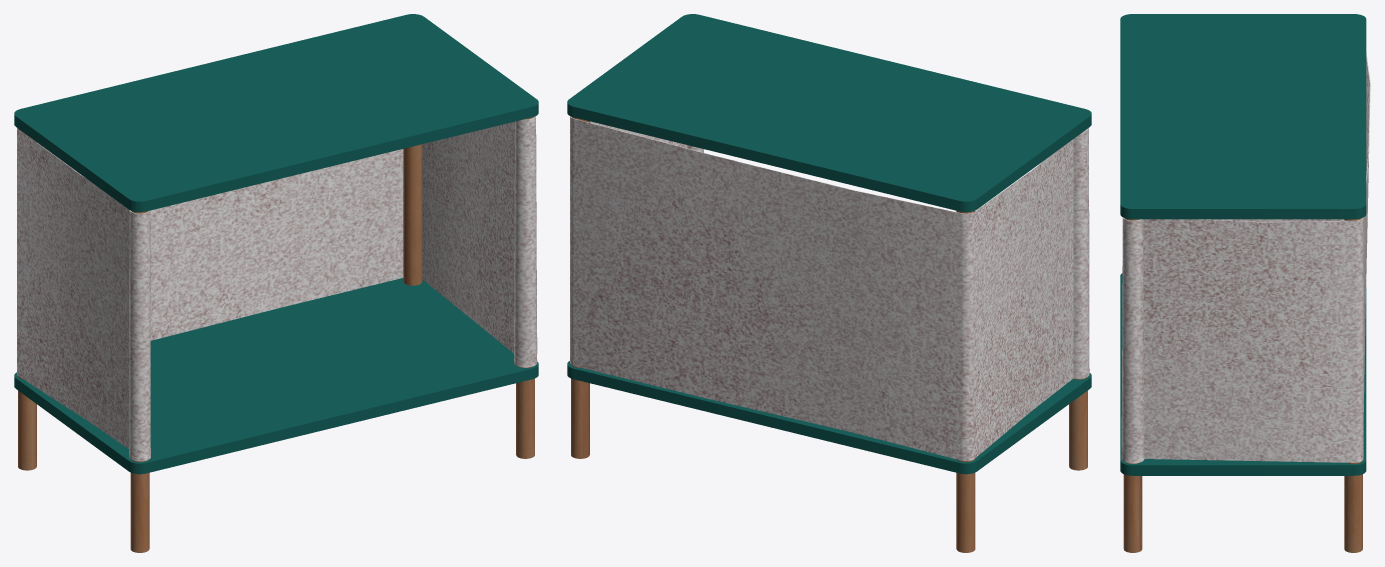
The model's file is c_feltshelf.gltf.
The picture shows the model from 3 angles, left to right: view 1: azimuth 30°, elevation 25°; view 2: azimuth 150°, elevation 25°; view 3: azimuth 270°, elevation 25°; orthographic projection. The views are drawn at different scales.
Parts seen in each view (by area): view 1: c_feltshelf; view 2: c_feltshelf; view 3: c_feltshelf.
Part boxes in pixels (x1,y1,x2,y2): c_feltshelf: (14,14,538,552); c_feltshelf: (567,14,1091,552); c_feltshelf: (1120,14,1370,552).
Bounding box in the file's own units: 0.6009 × 0.4964 × 0.3256.
1 material, 1 textured.
